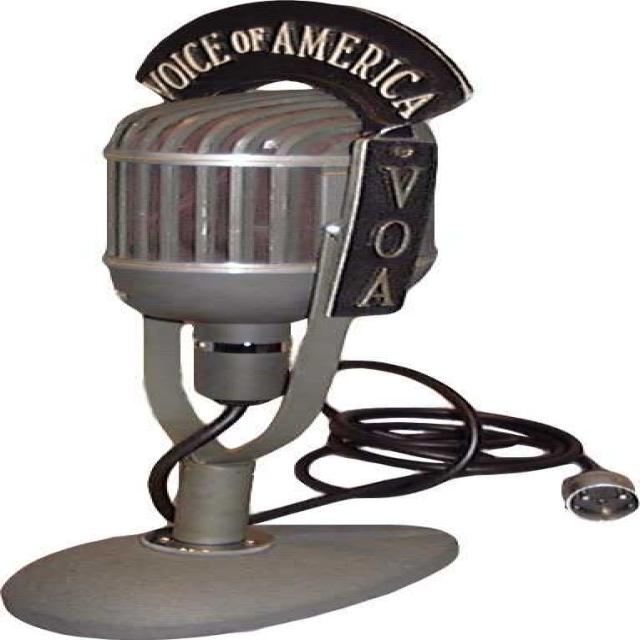microphone: (10, 1, 475, 633)
